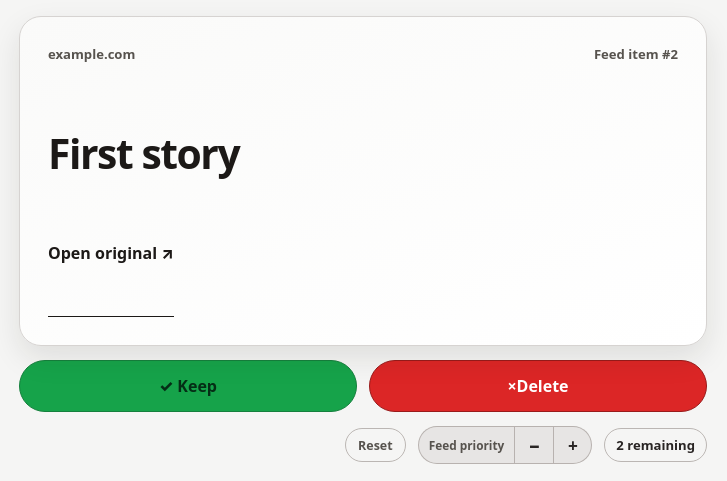
ReaderPage › keeps an item locally and advances without deleting it
Expected: the heading "First story" is shown, left=48, top=125, right=239, bottom=181
Click the button "✓ Keep": (188, 386) left=19, top=360, right=357, bottom=412
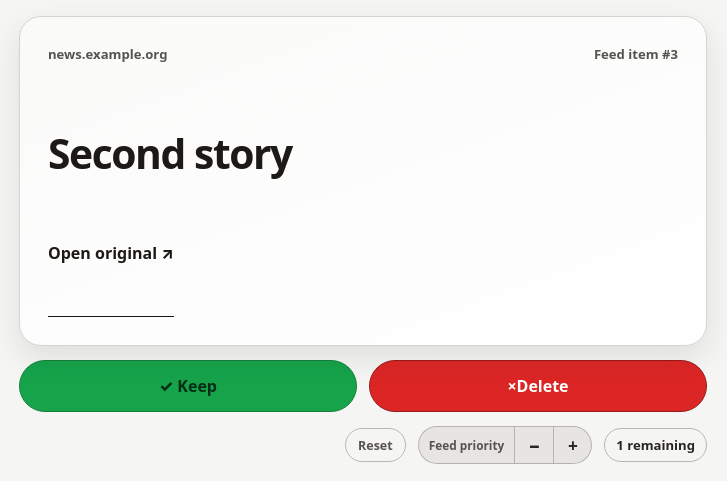
Expected: the heading "Second story" is shown, left=48, top=125, right=292, bottom=181
Expected: the text "1 remaining" is shown, left=604, top=428, right=707, bottom=462
